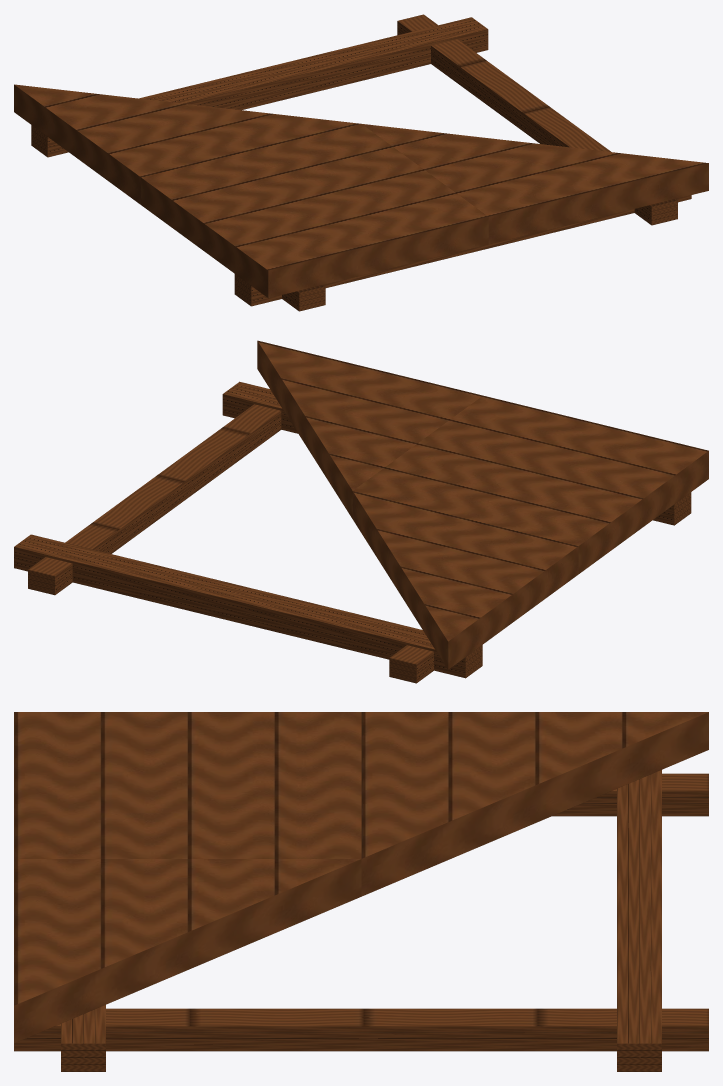
File: modular-survival-base-builder-floor-triangle-032535f8__24148.glb
3 views of the same model, one above another, from view 1: azimuth 30°, elevation 25°; view 2: azimuth 150°, elevation 25°; view 3: azimuth 270°, elevation 25° (orthographic). The views are drawn at different scales.
Visible parts, largest first — view 1: floor-triangle; view 2: floor-triangle; view 3: floor-triangle.
Part boxes in pixels (box(x1,y1,x2,y2)): floor-triangle: box(14, 14, 708, 311); floor-triangle: box(14, 340, 708, 683); floor-triangle: box(14, 712, 708, 1071).
Bounding box in the file's own units: 2 × 0.21 × 2.
Materials: 1 (1 with a texture image).
